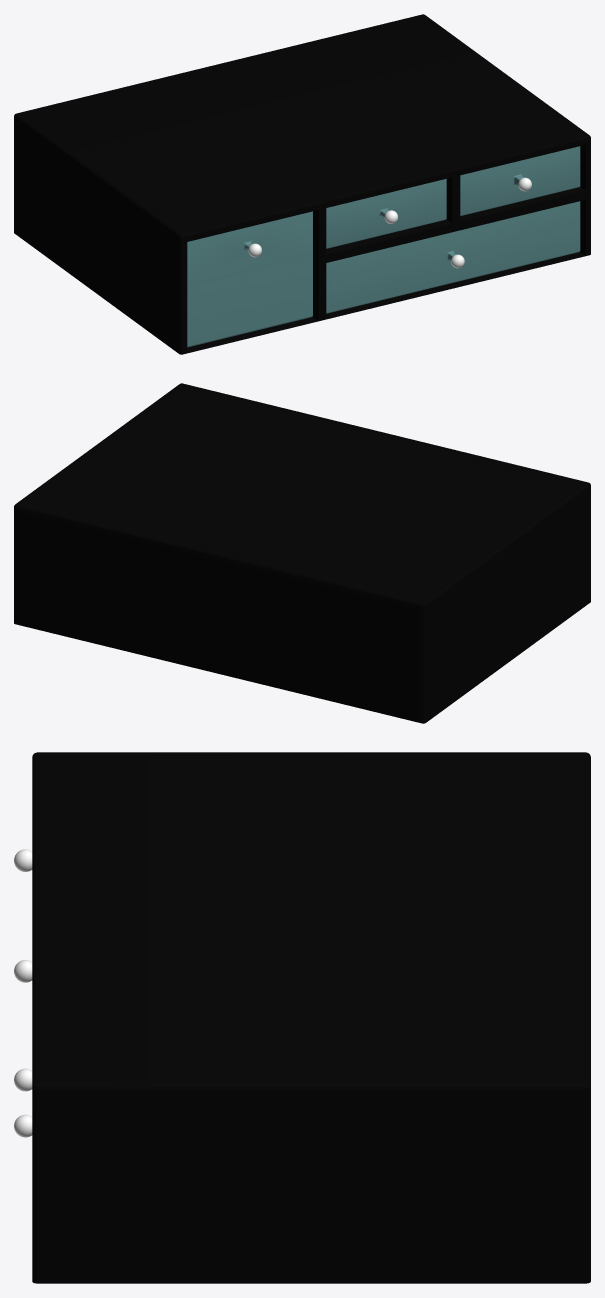
The model's file is Cajonera_Pequeña.fbx.
3 renders of one model, top to bottom at view 1: azimuth 30°, elevation 25°; view 2: azimuth 150°, elevation 25°; view 3: azimuth 270°, elevation 25°, orthographic. The views are drawn at different scales.
Parts seen in each view (by area): view 1: COMODA003, CAJON025, CAJON028, CAJON027, CAJON026; view 2: COMODA003; view 3: COMODA003.
Part boxes in pixels (left/top/right/bottom): COMODA003: left=14, top=14, right=590, bottom=354; CAJON025: left=187, top=211, right=312, bottom=347; CAJON028: left=326, top=201, right=580, bottom=313; CAJON027: left=460, top=146, right=580, bottom=216; CAJON026: left=326, top=179, right=446, bottom=248; COMODA003: left=14, top=383, right=590, bottom=723; COMODA003: left=32, top=752, right=590, bottom=1283.
Bounding box in the file's own units: 26.01 × 7.19 × 18.96.
